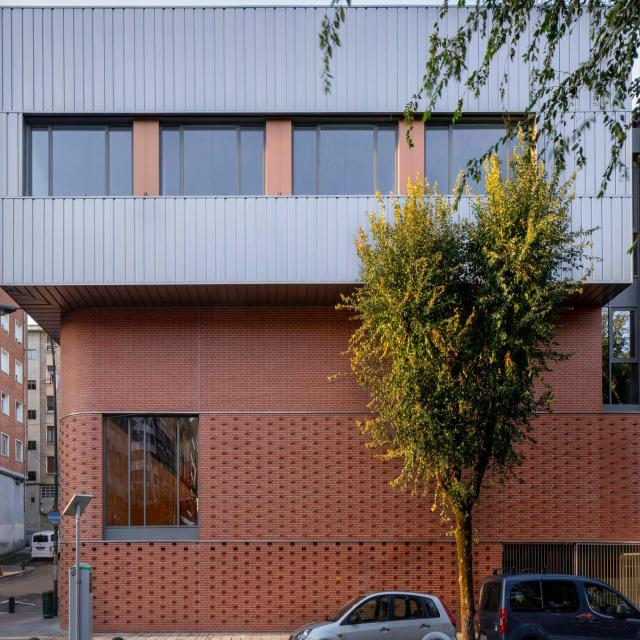railing: (501, 541, 640, 611)
window: (109, 416, 199, 524), (29, 119, 134, 190), (162, 121, 267, 192), (294, 119, 399, 190), (425, 115, 529, 186), (601, 301, 640, 402)
